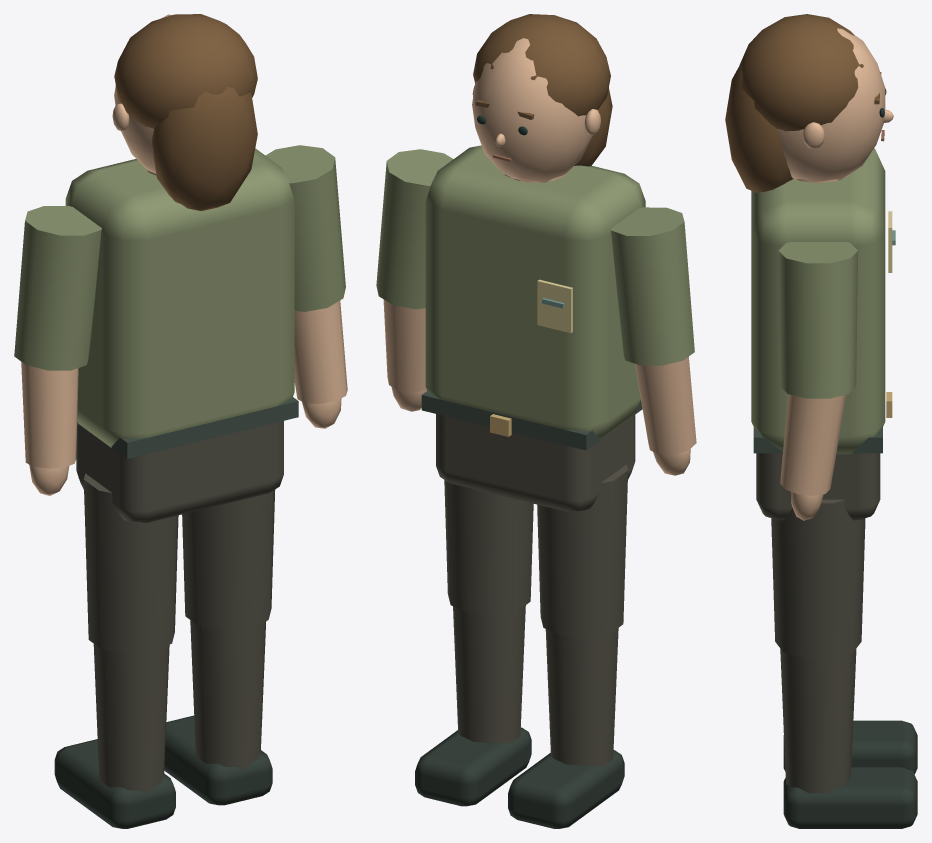
File: scout-05.glb
3 renders of one model, left to right at view 1: azimuth 30°, elevation 25°; view 2: azimuth 150°, elevation 25°; view 3: azimuth 270°, elevation 25°, orthographic. The views are drawn at different scales.
Parts seen in each view (by area): view 1: Scout character 5, left-upper-arm, right-upper-arm; view 2: Scout character 5, left-upper-arm, right-upper-arm; view 3: Scout character 5, right-upper-arm.
Part boxes in pixels (left/top/right/bottom): Scout character 5: left=54, top=14, right=298, bottom=828; left-upper-arm: left=14, top=206, right=101, bottom=495; right-upper-arm: left=265, top=145, right=347, bottom=428; Scout character 5: left=415, top=14, right=645, bottom=828; left-upper-arm: left=610, top=207, right=696, bottom=475; right-upper-arm: left=376, top=149, right=453, bottom=411; Scout character 5: left=725, top=14, right=917, bottom=828; right-upper-arm: left=778, top=242, right=857, bottom=520.
Bounding box in the file's own units: 0.7284 × 1.72 × 0.3874.
